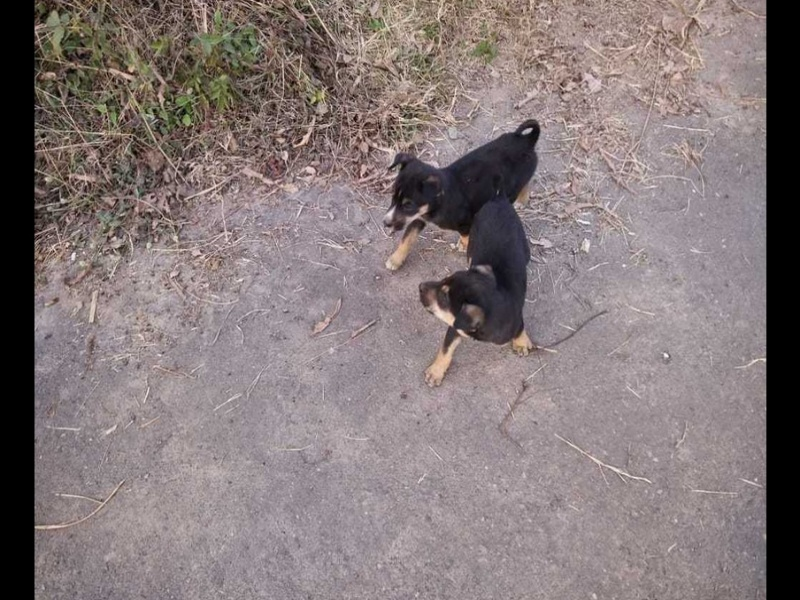dog: (382, 115, 552, 276), (414, 194, 541, 394)
